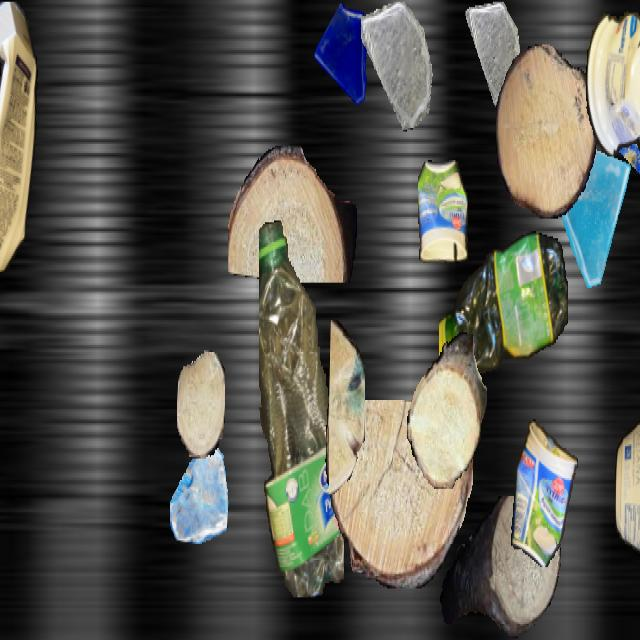glass: (550, 134, 640, 294), (361, 2, 433, 130), (313, 1, 377, 116), (596, 54, 640, 220), (170, 439, 228, 542), (465, 2, 523, 105)
plastic: (259, 218, 343, 596), (439, 224, 567, 388), (0, 2, 42, 272), (509, 420, 579, 566), (586, 2, 640, 180), (418, 160, 468, 263), (615, 416, 640, 572)
wood: (325, 400, 473, 588), (439, 496, 561, 638), (496, 45, 596, 218), (228, 146, 356, 281), (407, 332, 487, 489), (329, 320, 365, 494), (177, 350, 225, 457)
